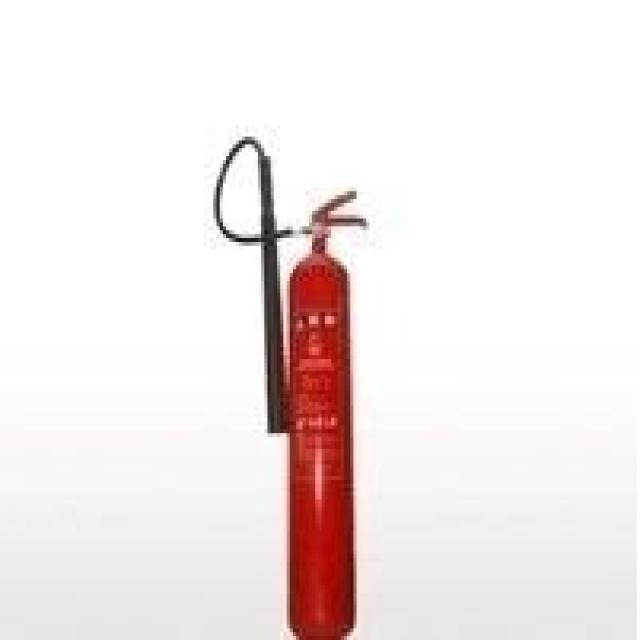fire_extinguisher: (207, 125, 373, 636)
